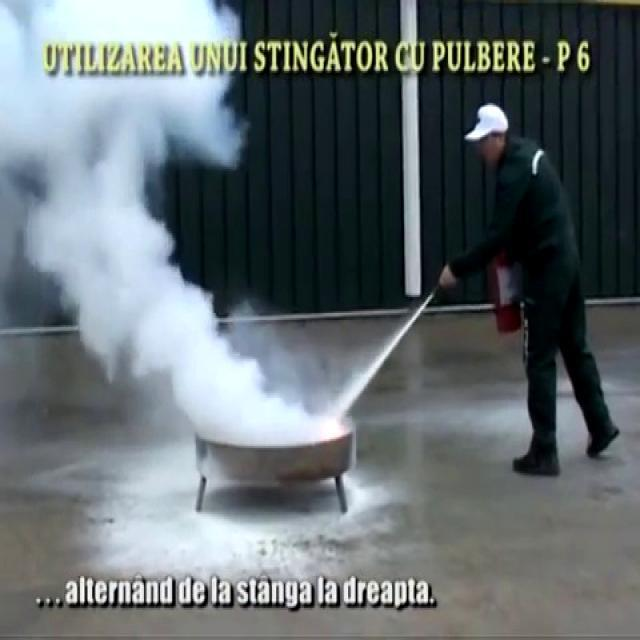Smoke: (0, 0, 299, 450)
